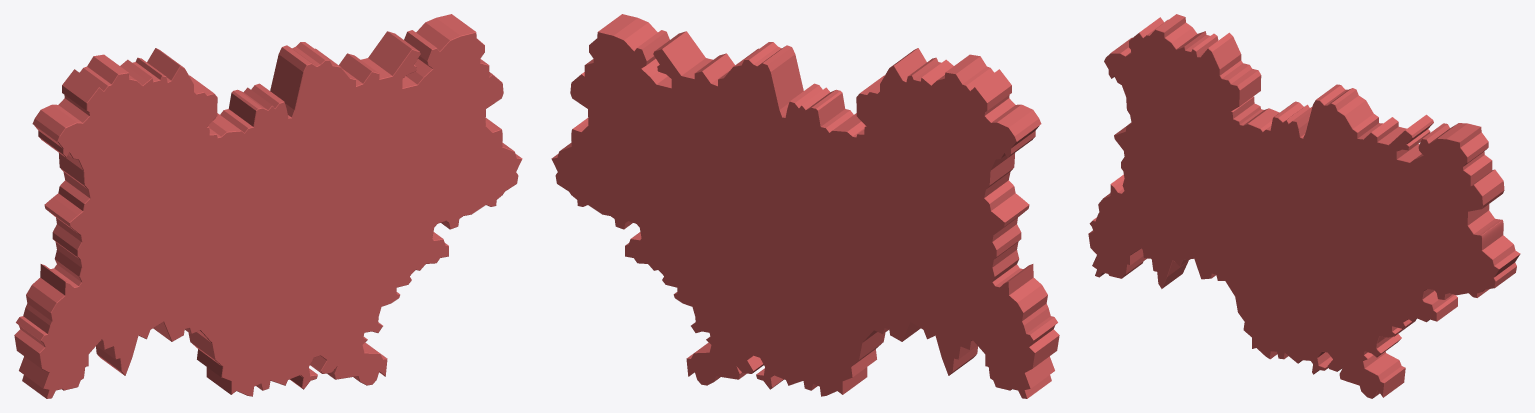
The model's file is AuvergneRhoneAlpes.glb.
3 views of the same model, side by side, from view 1: azimuth 30°, elevation 25°; view 2: azimuth 150°, elevation 25°; view 3: azimuth 330°, elevation 25° (orthographic). The views are drawn at different scales.
Visible parts, largest first — view 1: Auvergne-Rhône-Alpes; view 2: Auvergne-Rhône-Alpes; view 3: Auvergne-Rhône-Alpes.
Boxes of the visible parts, <box> form: Auvergne-Rhône-Alpes: <box>14,14,522,398</box>; Auvergne-Rhône-Alpes: <box>551,14,1059,398</box>; Auvergne-Rhône-Alpes: <box>1088,14,1520,398</box>.
Bounding box in the file's own units: 1.44 × 1.06 × 0.1283.
